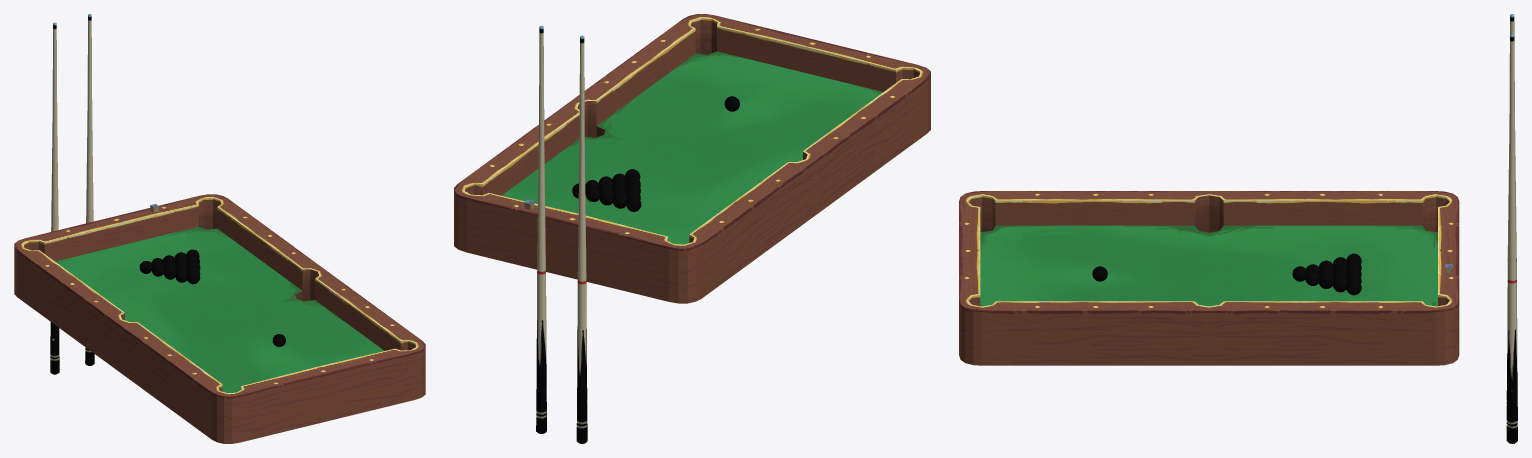
The model's file is pool set.glb.
The picture shows the model from 3 angles, left to right: view 1: azimuth 30°, elevation 25°; view 2: azimuth 150°, elevation 25°; view 3: azimuth 270°, elevation 25°; orthographic projection. The views are drawn at different scales.
Visible parts, largest first — view 1: table, sticka.001, sticka; view 2: table, sticka.001, sticka; view 3: table, sticka.
Part boxes in pixels (bbox=[...]): table: bbox=[14, 194, 425, 443]; sticka.001: bbox=[50, 22, 59, 374]; sticka: bbox=[85, 14, 94, 365]; table: bbox=[454, 14, 930, 303]; sticka.001: bbox=[576, 35, 587, 443]; sticka: bbox=[536, 25, 546, 433]; table: bbox=[959, 191, 1459, 365]; sticka: bbox=[1506, 34, 1517, 443].
Size of the model in its own units: 11.52 by 18.27 by 22.69.
5 materials, 5 textured.
